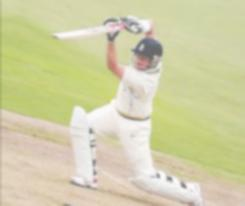batsman: (46, 13, 218, 206)
